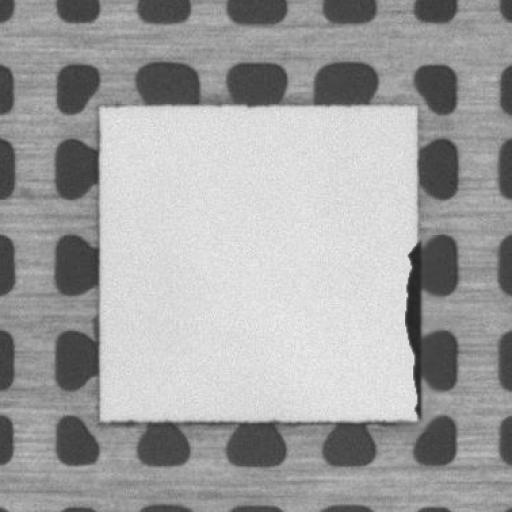DIE_BROKEN: (398, 242, 423, 425)
